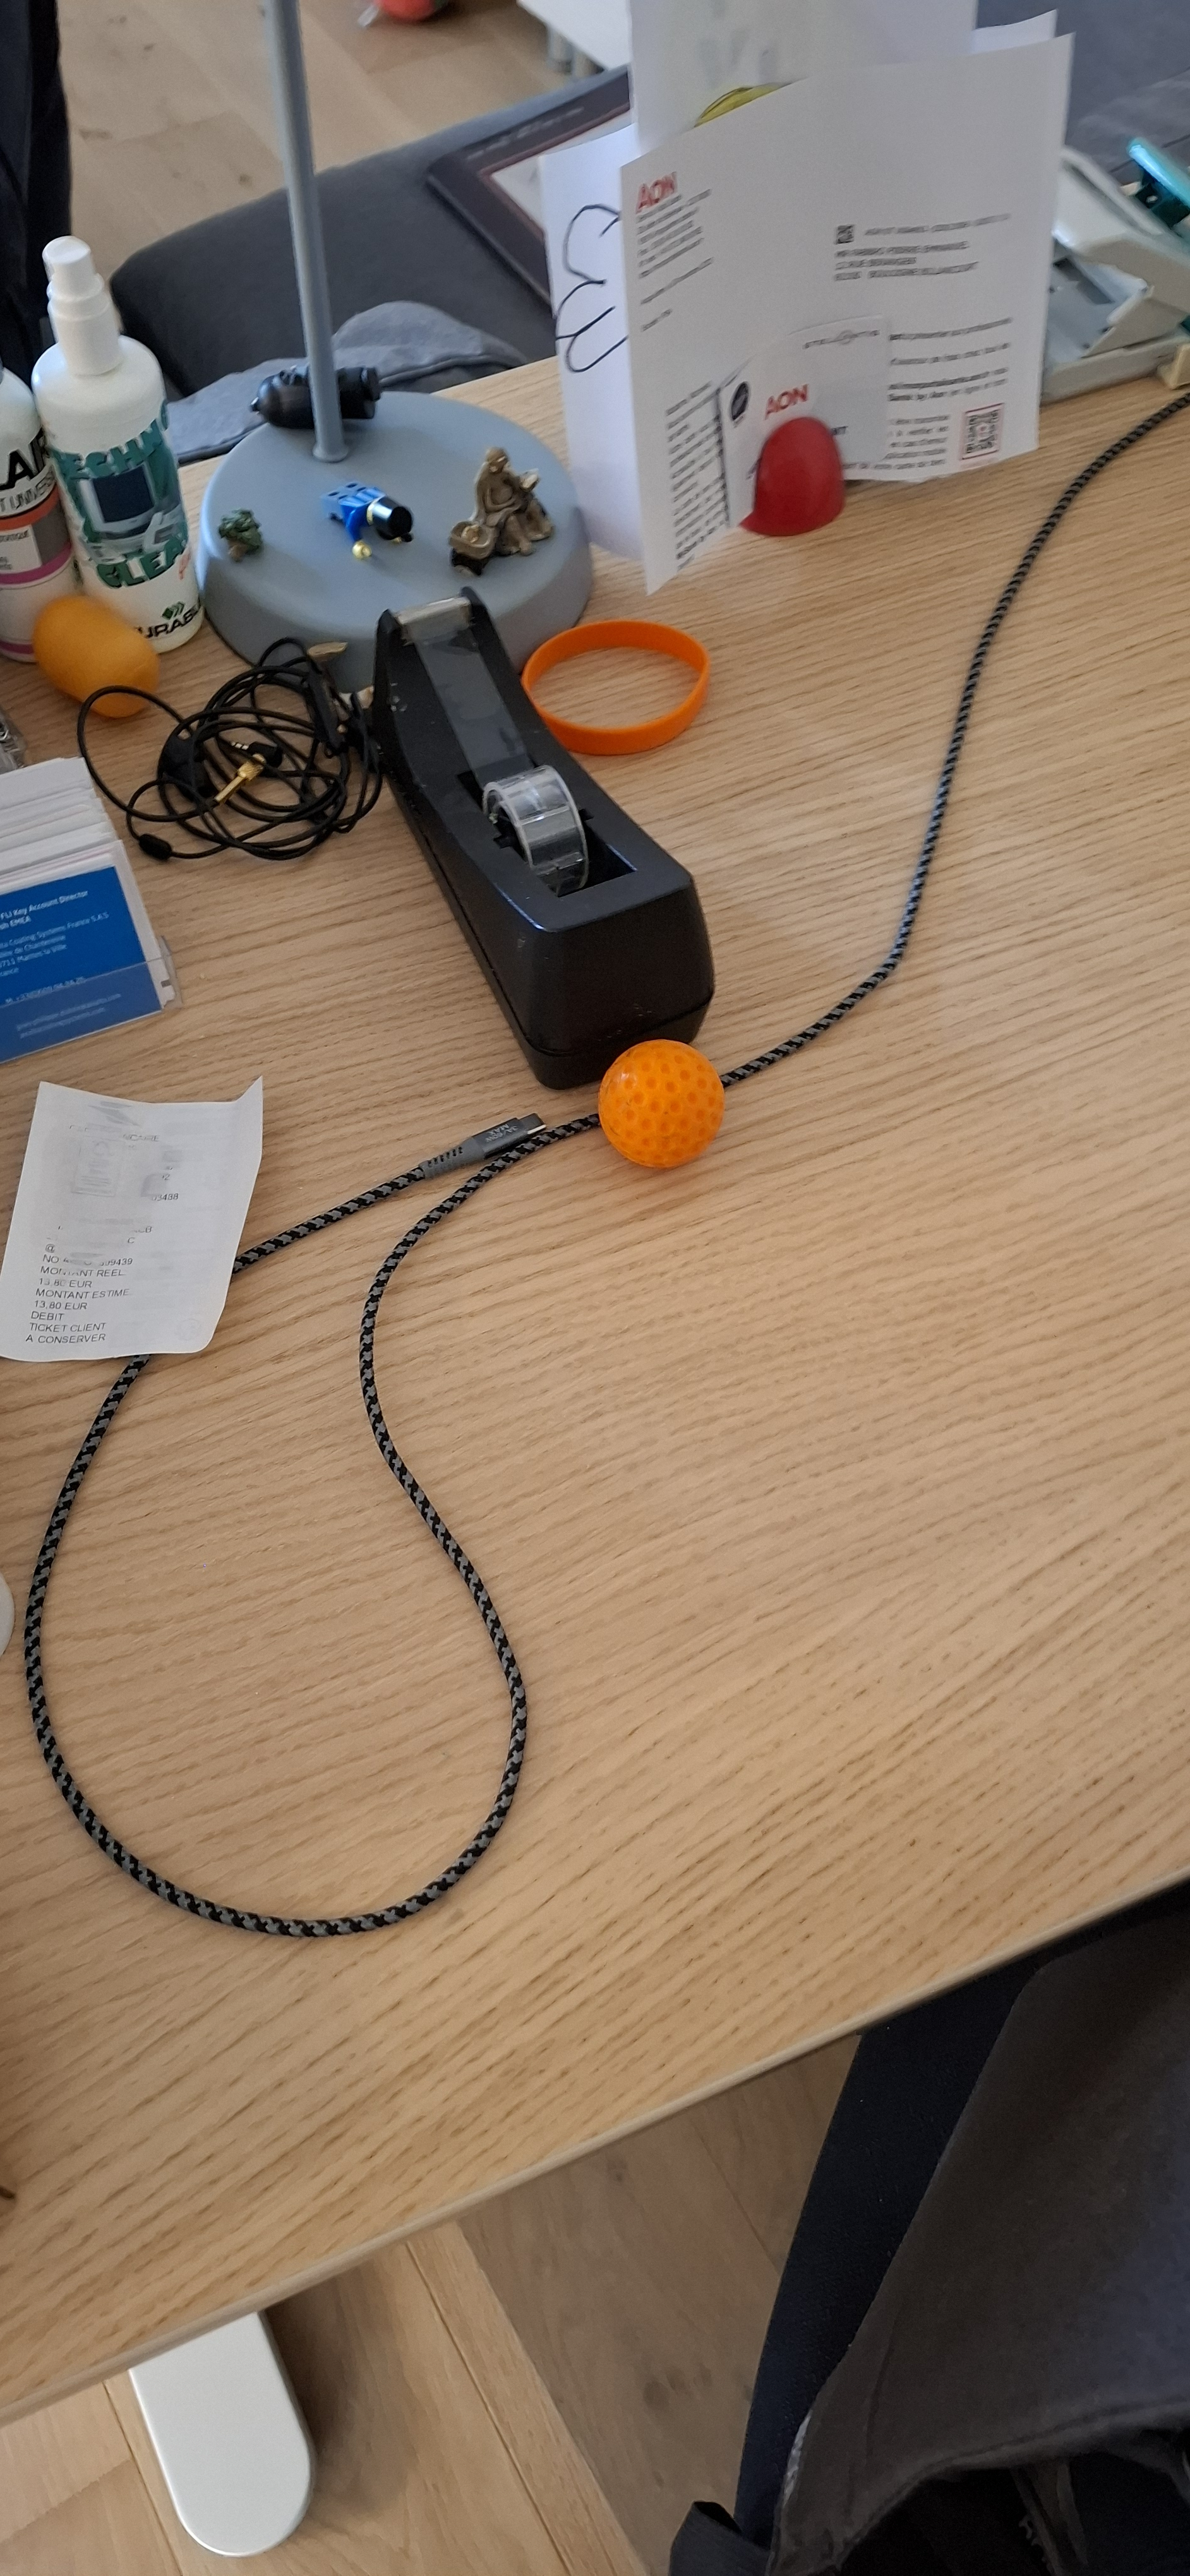ball: (480, 1004, 539, 1285)
